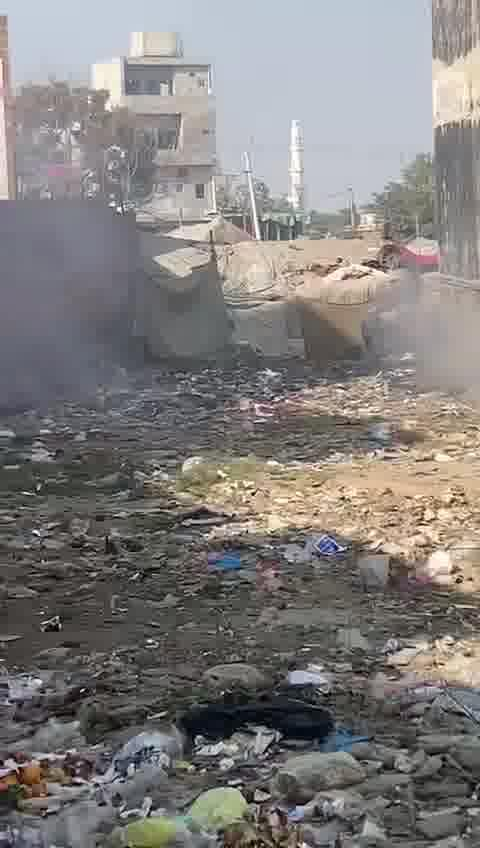garbage: (0, 360, 480, 848)
